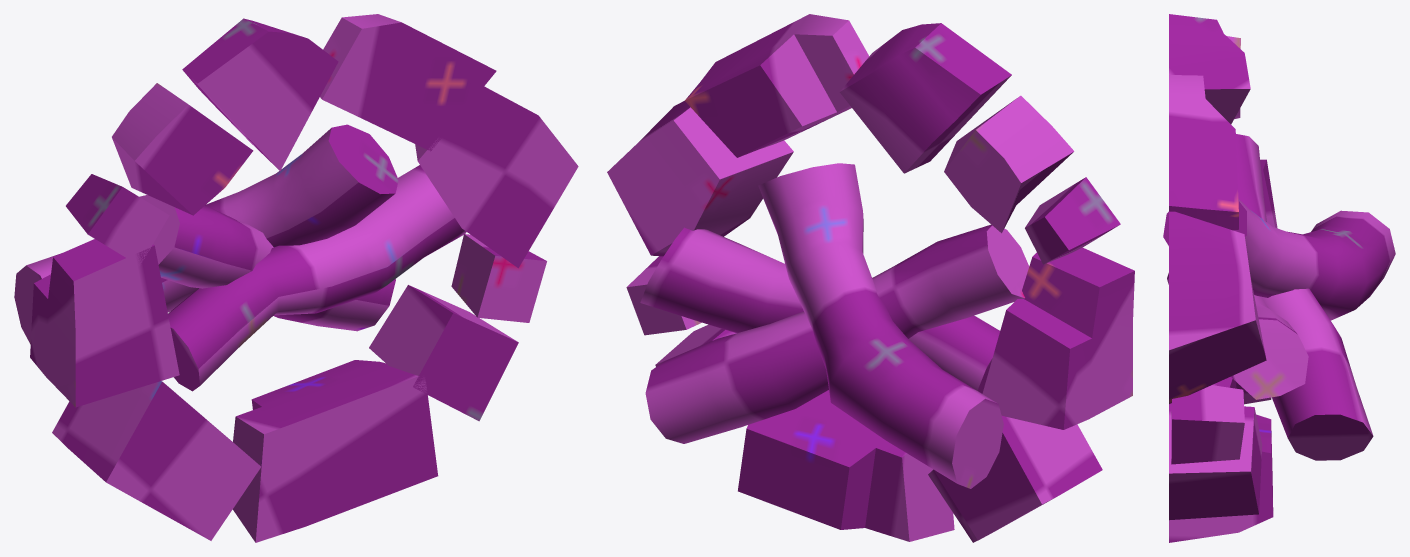
File: Campfire.fbx
3 renders of one model, left to right at view 1: azimuth 30°, elevation 25°; view 2: azimuth 150°, elevation 25°; view 3: azimuth 270°, elevation 25°, orthographic. The views are drawn at different scales.
Visible parts, largest first — view 1: firePit; view 2: firePit; view 3: firePit.
Part boxes in pixels (box(x1,y1,x2,y2)): firePit: box(14, 14, 578, 542); firePit: box(607, 14, 1134, 542); firePit: box(1163, 14, 1395, 542).
Size of the model in its own units: 299 by 287 by 128.
